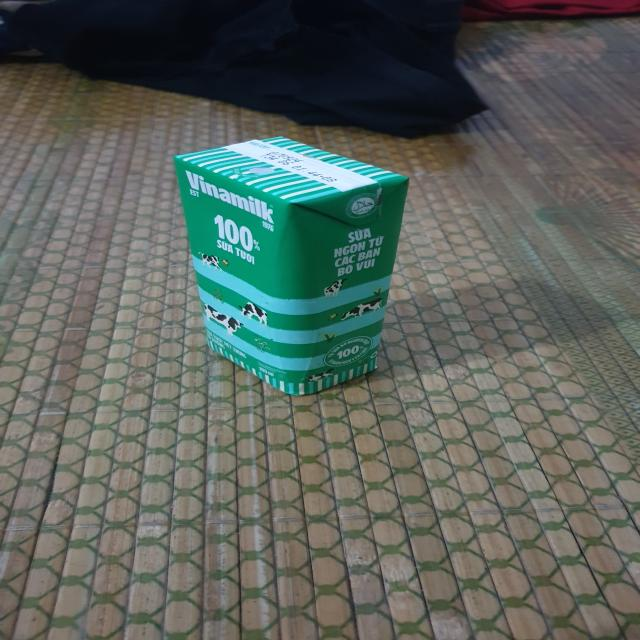Vina: (170, 134, 416, 400)
